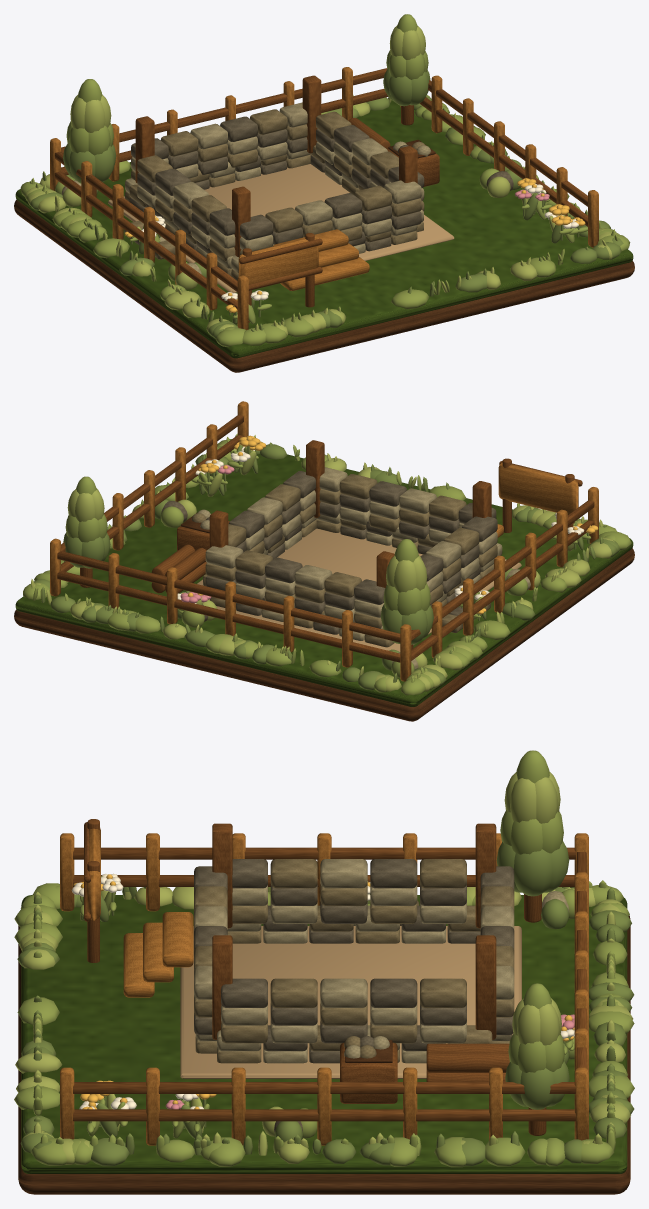
Rendered from stage-2.glb.
3 views of the same model, one above another, from view 1: azimuth 30°, elevation 25°; view 2: azimuth 150°, elevation 25°; view 3: azimuth 270°, elevation 25° (orthographic). The views are drawn at different scales.
Visible parts, largest first — view 1: Surface_Moss lawn, Surface_Honey wood, Surface_Golden end grain, Surface_Stone 0, Surface_Foliage 1, Surface_Stone 2, Surface_Stone 1, Surface_Ochre earth, Surface_Foliage 2, Surface_Foliage 0, Surface_Garden soil, Surface_Petal marigold (+1 smaller); view 2: Surface_Moss lawn, Surface_Honey wood, Surface_Golden end grain, Surface_Foliage 1, Surface_Stone 0, Surface_Stone 2, Surface_Ochre earth, Surface_Stone 1, Surface_Foliage 0, Surface_Foliage 2, Surface_Garden soil, Surface_Petal marigold (+1 smaller); view 3: Surface_Moss lawn, Surface_Honey wood, Surface_Foliage 1, Surface_Golden end grain, Surface_Stone 0, Surface_Foliage 0, Surface_Stone 2, Surface_Stone 1, Surface_Garden soil, Surface_Ochre earth, Surface_Foliage 2, Surface_Petal ivory (+1 smaller).
Boxes of the visible parts, x1=… form: Surface_Moss lawn: x1=15, y1=100, x2=633, y2=358; Surface_Honey wood: x1=54, y1=68, x2=587, y2=322; Surface_Golden end grain: x1=50, y1=67, x2=598, y2=330; Surface_Stone 0: x1=124, y1=109, x2=424, y2=280; Surface_Foliage 1: x1=20, y1=14, x2=630, y2=347; Surface_Stone 2: x1=129, y1=116, x2=513, y2=253; Surface_Stone 1: x1=61, y1=102, x2=431, y2=276; Surface_Ochre earth: x1=14, y1=139, x2=634, y2=372; Surface_Foliage 2: x1=24, y1=25, x2=619, y2=336; Surface_Foliage 0: x1=29, y1=69, x2=623, y2=338; Surface_Garden soil: x1=108, y1=164, x2=454, y2=292; Surface_Petal marigold: x1=124, y1=178, x2=585, y2=312; Surface_Moss lawn: x1=15, y1=454, x2=633, y2=706; Surface_Honey wood: x1=57, y1=415, x2=594, y2=662; Surface_Golden end grain: x1=50, y1=401, x2=598, y2=681; Surface_Foliage 1: x1=23, y1=433, x2=631, y2=695; Surface_Stone 0: x1=191, y1=474, x2=497, y2=647; Surface_Stone 2: x1=161, y1=471, x2=497, y2=634; Surface_Ochre earth: x1=14, y1=512, x2=634, y2=721; Surface_Stone 1: x1=197, y1=467, x2=530, y2=669; Surface_Foliage 0: x1=34, y1=442, x2=619, y2=690; Surface_Foliage 2: x1=31, y1=435, x2=614, y2=691; Surface_Garden soil: x1=185, y1=528, x2=521, y2=651; Surface_Petal marigold: x1=182, y1=435, x2=598, y2=614; Surface_Moss lawn: x1=21, y1=895, x2=627, y2=1173; Surface_Honey wood: x1=73, y1=819, x2=586, y2=1135; Surface_Foliage 1: x1=14, y1=750, x2=634, y2=1167; Surface_Golden end grain: x1=60, y1=828, x2=588, y2=1145; Surface_Stone 0: x1=194, y1=859, x2=514, y2=1063; Surface_Foliage 0: x1=17, y1=841, x2=634, y2=1166; Surface_Stone 2: x1=194, y1=859, x2=569, y2=1133; Surface_Stone 1: x1=194, y1=859, x2=569, y2=1063; Surface_Garden soil: x1=180, y1=926, x2=521, y2=1078; Surface_Ochre earth: x1=18, y1=915, x2=630, y2=1194; Surface_Foliage 2: x1=15, y1=771, x2=633, y2=1164; Surface_Petal ivory: x1=71, y1=873, x2=574, y2=1109.
Size of the model in its own units: 7.38 by 2.57 by 7.
14 materials, 7 textured.
